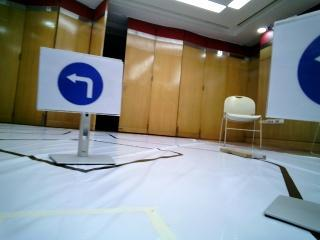left: (44, 49, 123, 115), (278, 26, 320, 118)
